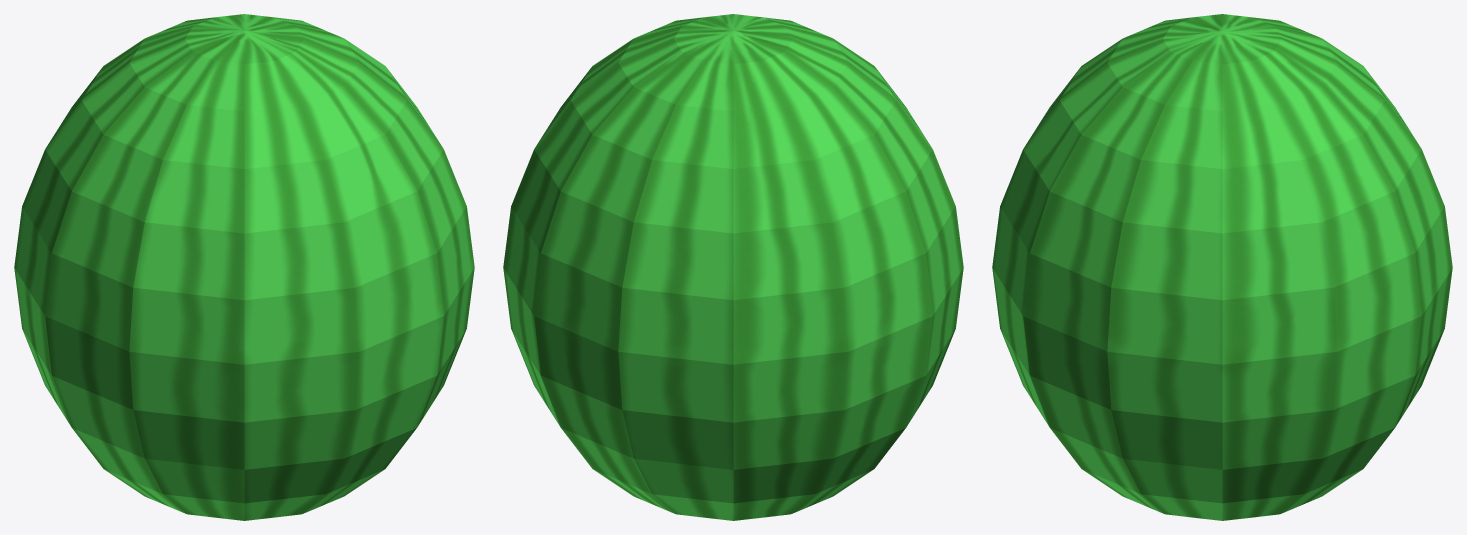
Rendered from watermelon.fbx.
3 views of the same model, side by side, from view 1: azimuth 30°, elevation 25°; view 2: azimuth 150°, elevation 25°; view 3: azimuth 270°, elevation 25° (orthographic).
Parts seen in each view (by area): view 1: watermelon1; view 2: watermelon1; view 3: watermelon1.
Part boxes in pixels (x1,y1,x2,y2): watermelon1: [14, 14, 474, 520]; watermelon1: [503, 14, 963, 520]; watermelon1: [992, 14, 1452, 520].
Bounding box in the file's own units: 59.02 × 66.86 × 59.02.
Materials: 1 (1 with a texture image).
